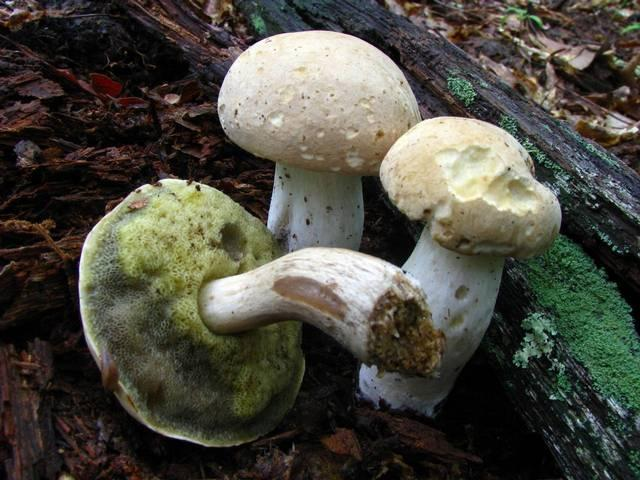Edible Mushroom: (354, 114, 562, 416), (76, 176, 306, 448), (216, 28, 422, 254)
